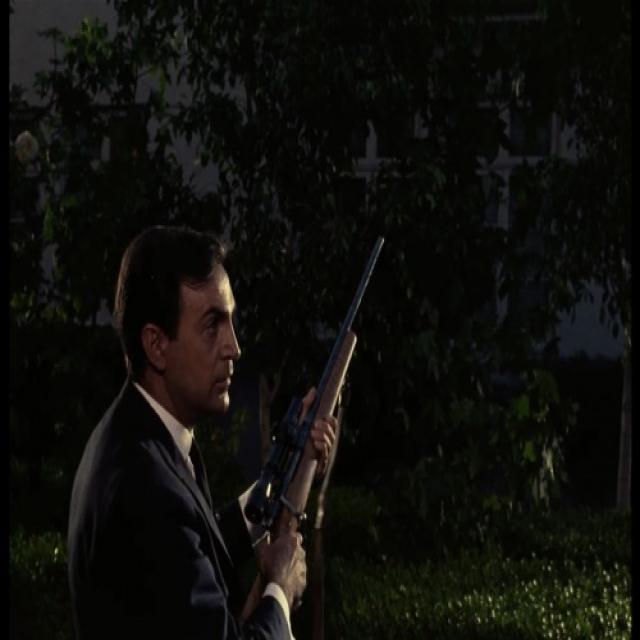rifle: (234, 233, 389, 636)
